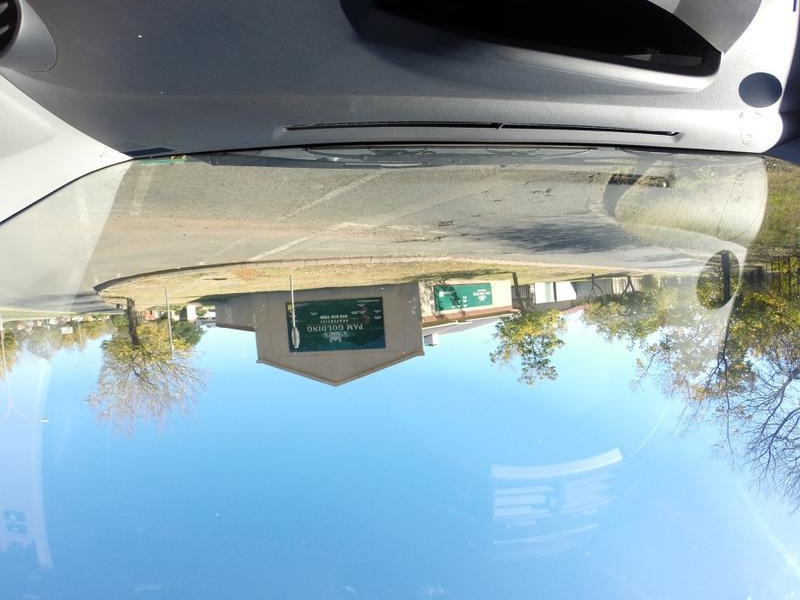pothole: (330, 218, 467, 250)
